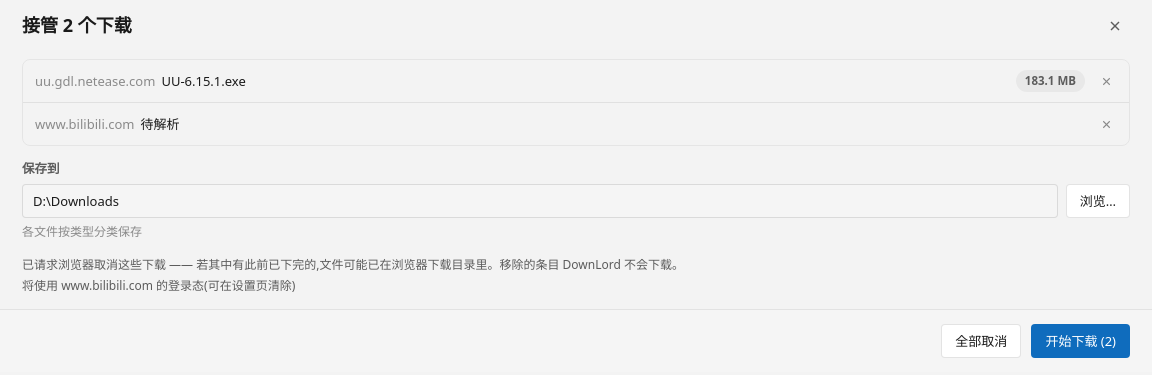
Test: ★ Task6 态 B:把带登录态的条目逐条移除后,那一行随之消失
Expected: the text "将使用 www.bilibili.com 的登录态(可在设置页清除)" is shown, [22, 277, 295, 294]
Click the button named "移除 待解析". click: (1106, 124)
box: [1095, 113, 1117, 135]
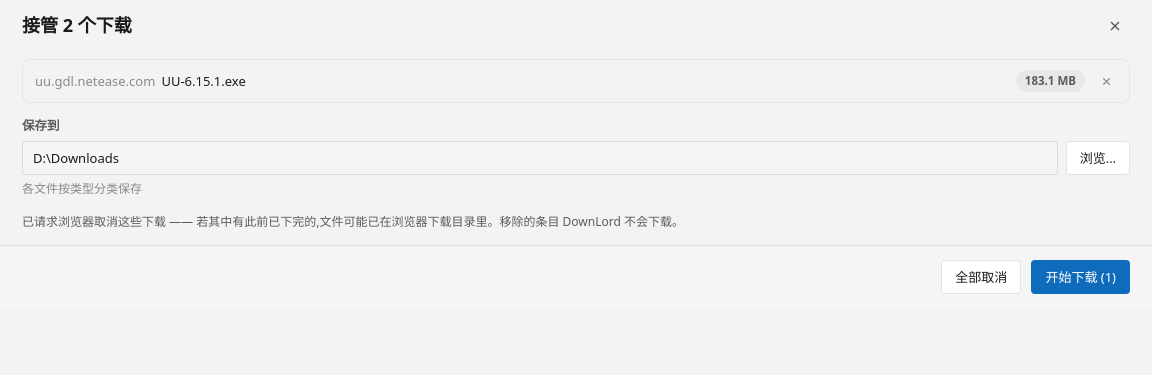
Result: the text "将使用" is gone
